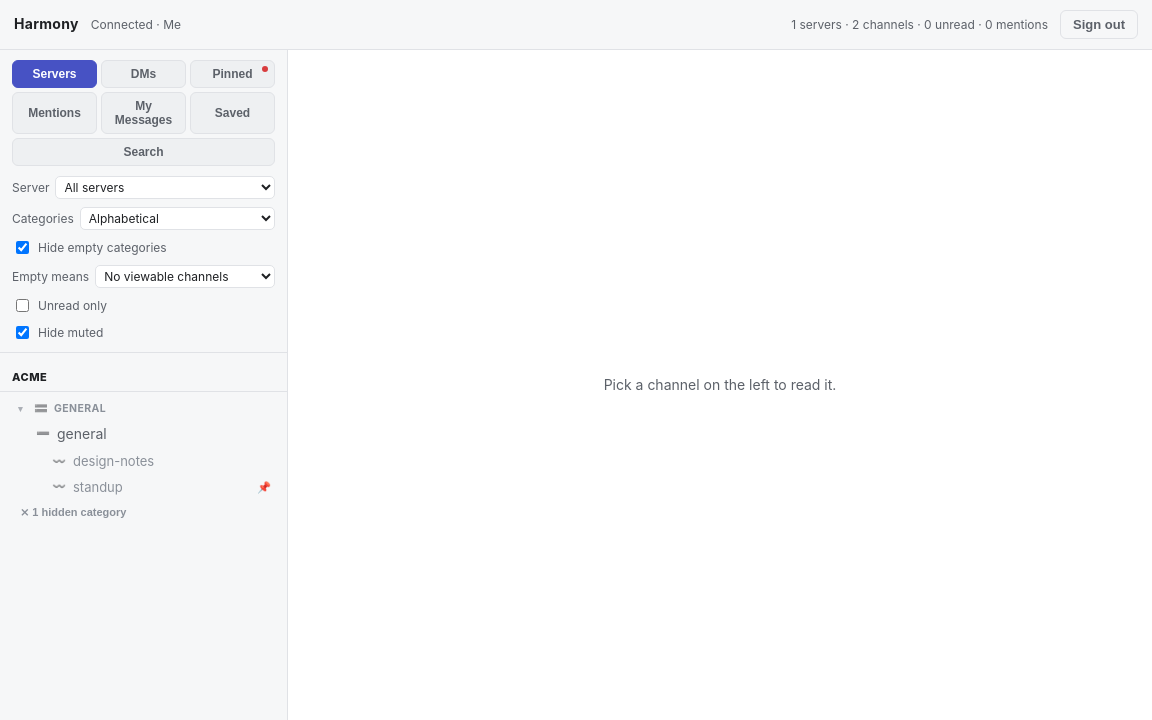
Test: FR-6 — hide empty categories › hides a category flagged hidden and reveals it via the affordance
Check: the text "General" is shown, box top-left (54, 402), bottom-right (106, 415)
Check: the text "Archive" is not shown
Click the button "⨯ 1 hidden category": click(73, 512) top-left (12, 503), bottom-right (275, 522)
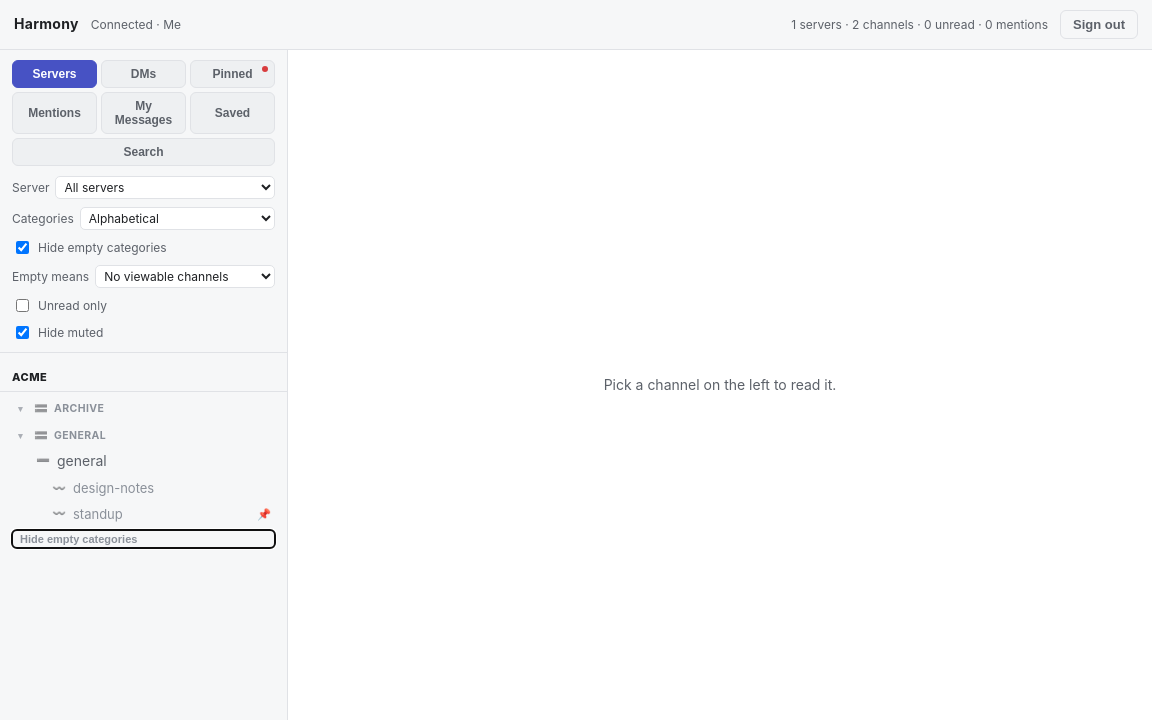
Check: the text "Archive" is shown, box top-left (54, 402), bottom-right (104, 415)
Check: the button "Hide empty categories" is shown, box top-left (12, 530), bottom-right (275, 548)
